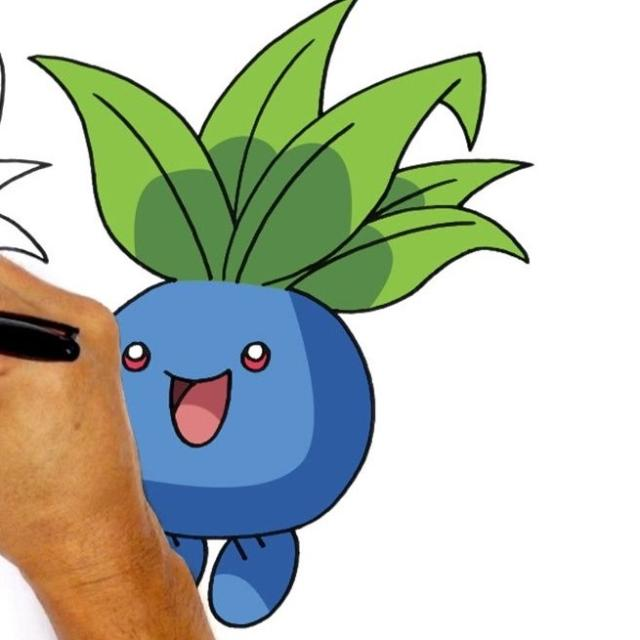Oddish: (42, 13, 378, 595)
